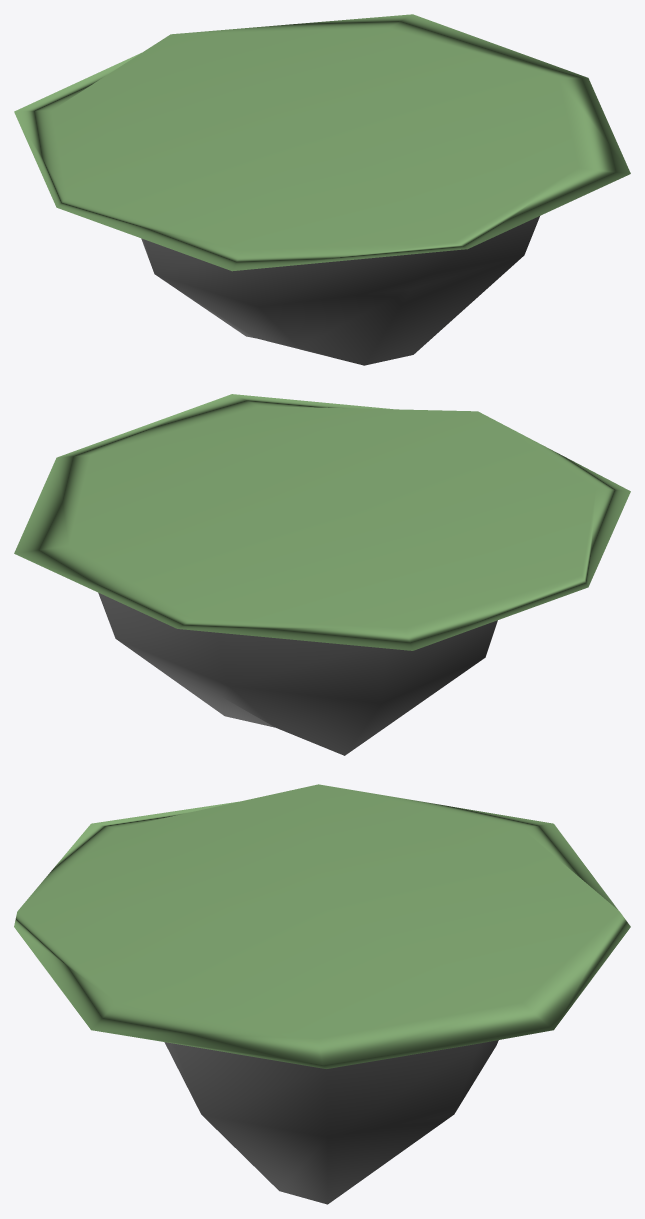
The model's file is Island.fbx.
3 views of the same model, one above another, from view 1: azimuth 30°, elevation 25°; view 2: azimuth 150°, elevation 25°; view 3: azimuth 270°, elevation 25° (orthographic). The views are drawn at different scales.
Visible parts, largest first — view 1: pCube23; view 2: pCube23; view 3: pCube23.
Part boxes in pixels (bbox=[...]): pCube23: bbox=[14, 14, 630, 365]; pCube23: bbox=[14, 394, 630, 755]; pCube23: bbox=[14, 784, 630, 1204].
Size of the model in its own units: 45.22 by 18.43 by 42.81.
